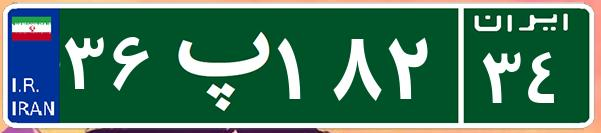1: (273, 28, 330, 110)
2: (385, 28, 445, 110)
3: (57, 26, 110, 107), (475, 38, 525, 113)
4: (525, 38, 570, 115)
6: (110, 28, 158, 105)
8: (330, 28, 385, 110)
پ: (158, 15, 273, 115)
